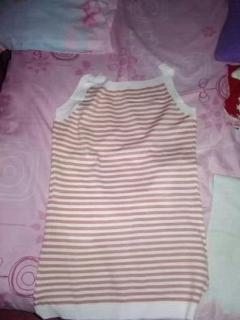sling: (33, 64, 209, 319)
